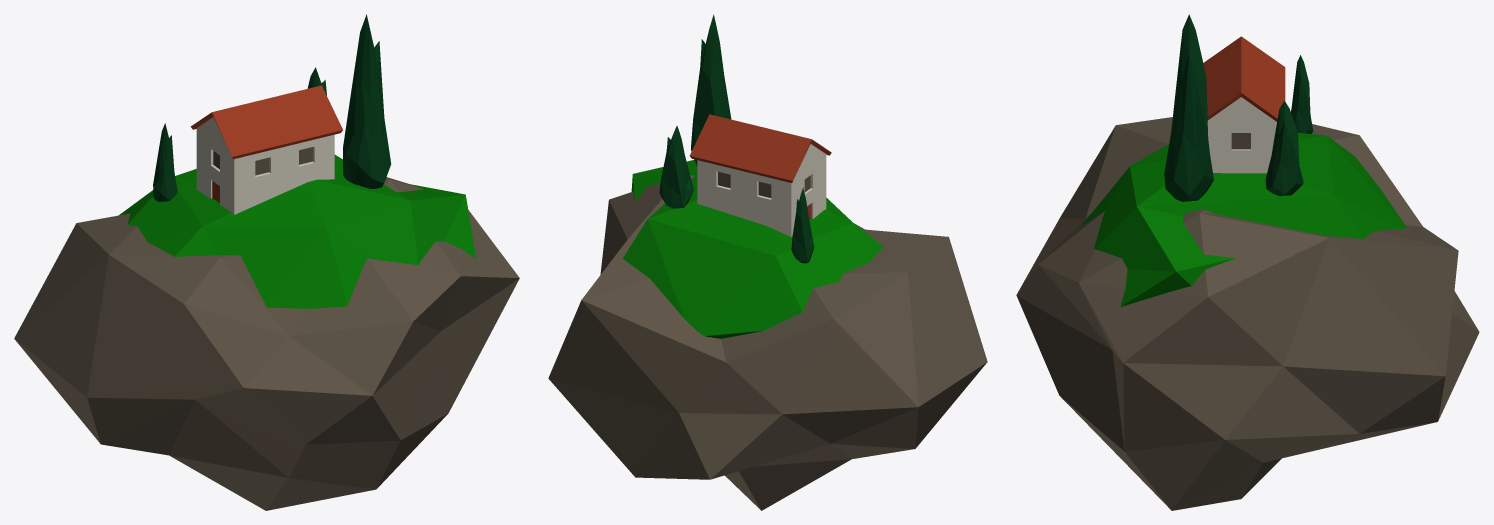
File: floating-island-house-1.dae
The picture shows the model from 3 angles, left to right: view 1: azimuth 30°, elevation 25°; view 2: azimuth 150°, elevation 25°; view 3: azimuth 270°, elevation 25°; orthographic projection. The views are drawn at different scales.
Parts seen in each view (by area): view 1: island, Icosphere_002, house, Cube_001, Icosphere_001, Icosphere_004; view 2: island, Icosphere_002, house, Cube_001, Icosphere_001, Icosphere_003, Icosphere_004; view 3: island, Icosphere_002, Icosphere_001, Cube_001, house, Icosphere_003, Icosphere_004.
Boxes of the visible parts, x1,y1,x2,y2 form: island: (14,177,519,510); Icosphere_002: (119,154,476,308); house: (196,117,334,214); Cube_001: (190,85,342,159); Icosphere_001: (343,14,391,188); Icosphere_004: (153,123,177,201); island: (548,175,987,510); Icosphere_002: (623,160,883,338); house: (697,144,826,236); Cube_001: (689,114,831,182); Icosphere_001: (691,14,731,166); Icosphere_003: (659,126,693,208); Icosphere_004: (791,187,814,263); island: (1016,117,1479,510); Icosphere_002: (1080,132,1406,306); Icosphere_001: (1164,14,1213,201); Cube_001: (1203,36,1285,121); house: (1207,97,1276,173); Icosphere_003: (1265,100,1303,196); Icosphere_004: (1291,55,1313,133).
Bounding box in the file's own units: 0.91 × 0.8461 × 1.06.
